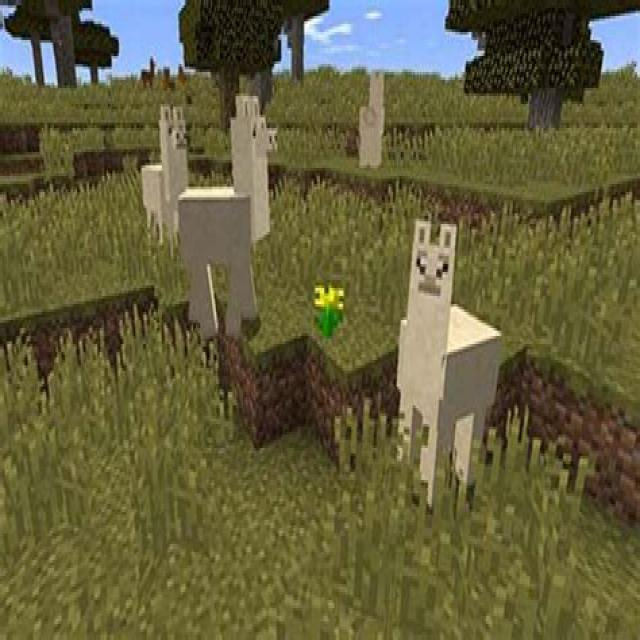Llama: (395, 209, 503, 527), (176, 88, 280, 339), (140, 96, 190, 256), (358, 68, 386, 172)
